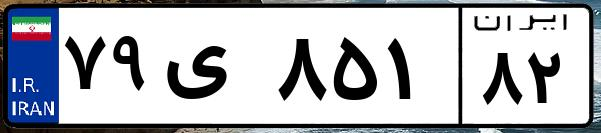1: (385, 28, 445, 110)
2: (525, 38, 570, 115)
5: (330, 28, 385, 110)
7: (57, 26, 110, 100)
8: (270, 28, 330, 110), (475, 38, 525, 113)
9: (110, 28, 158, 98)
ی: (158, 20, 270, 120)
